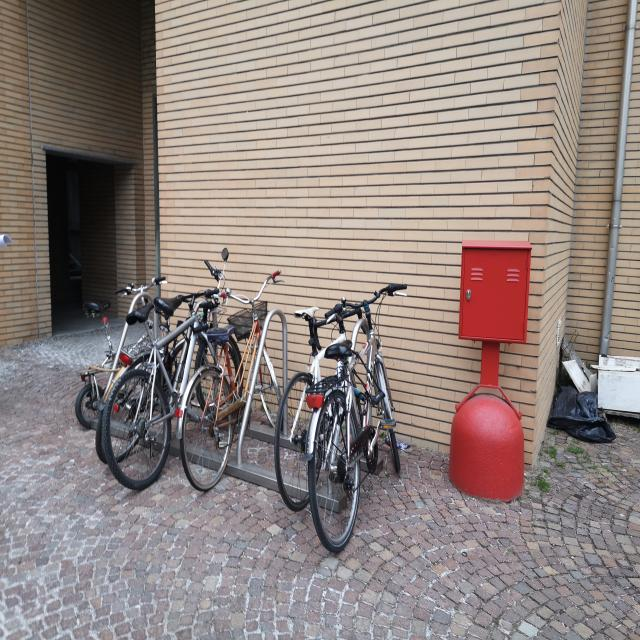Bicycle: (308, 264, 438, 568), (112, 252, 245, 486), (181, 257, 297, 504), (278, 247, 348, 496), (115, 254, 156, 448)
